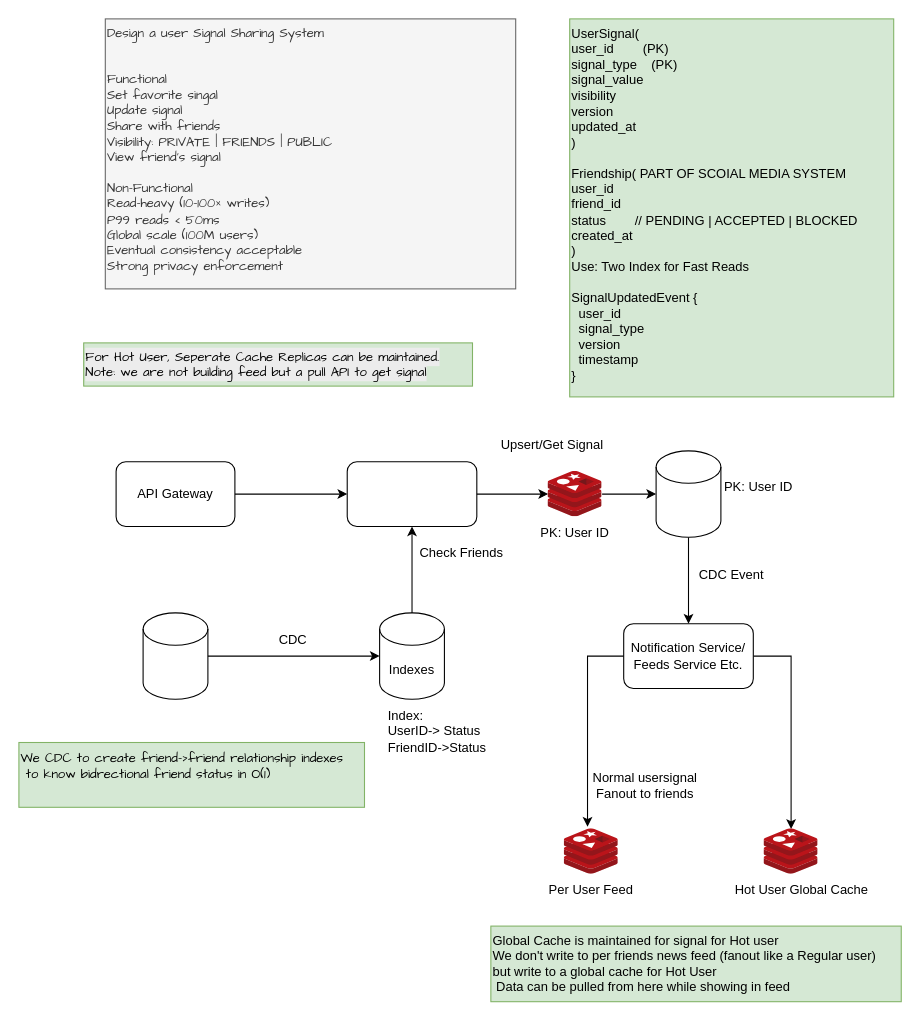
This 920x1021 diagram has some shape labels left out. Each missing label, with the box of its shape:
FriendShip: (142, 612, 208, 699)
Signal Service: (346, 461, 477, 526)
User Signal: (655, 450, 721, 537)
